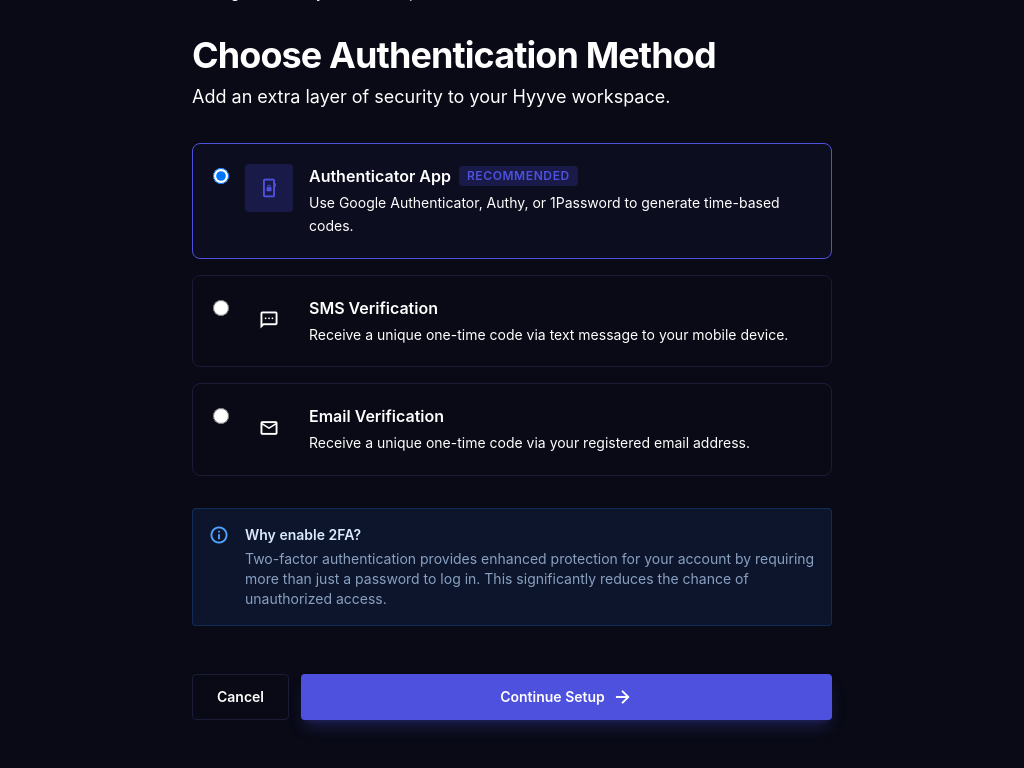
Test case: MfaMethodSelection › Cancel Button and Skip Warning Modal › opens warning modal when Cancel is clicked
(page scrolled)
What coordinates should you click on to do the following:
click the button "Cancel"
I would click on:
 (240, 697)
Its box is [192, 674, 289, 720].
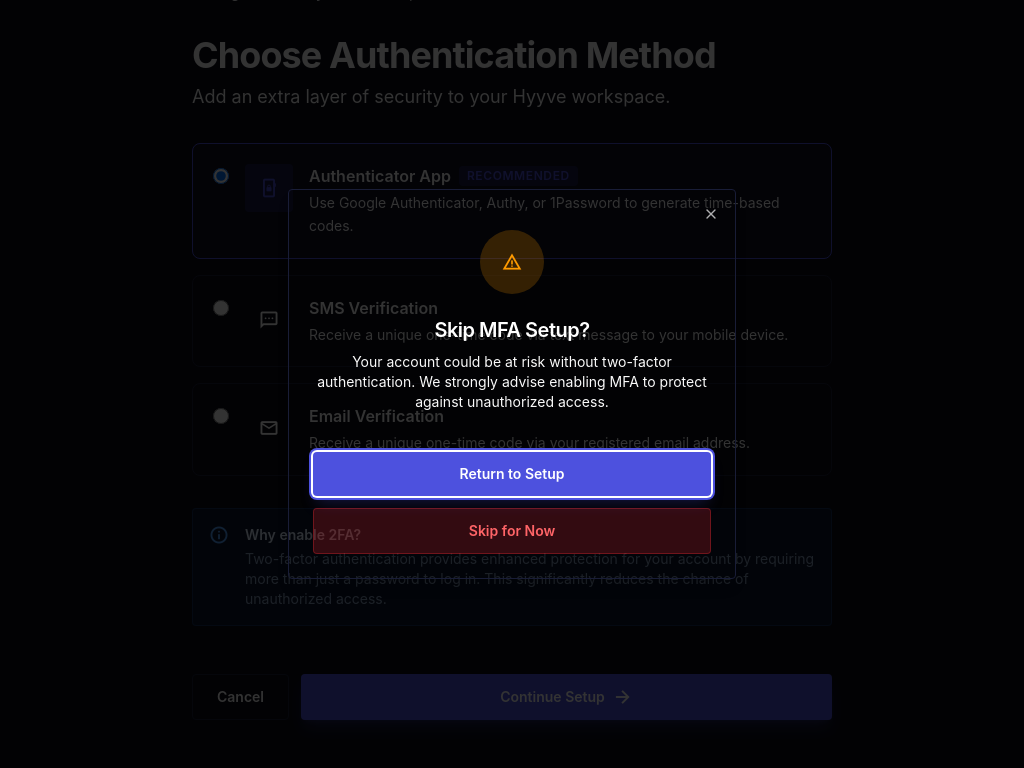
Expected: the dialog is shown, [288, 189, 736, 579]
